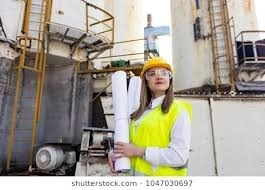helmet: (142, 57, 172, 74)
person with full safety: (133, 56, 188, 173)
safety vest: (134, 99, 187, 171)
